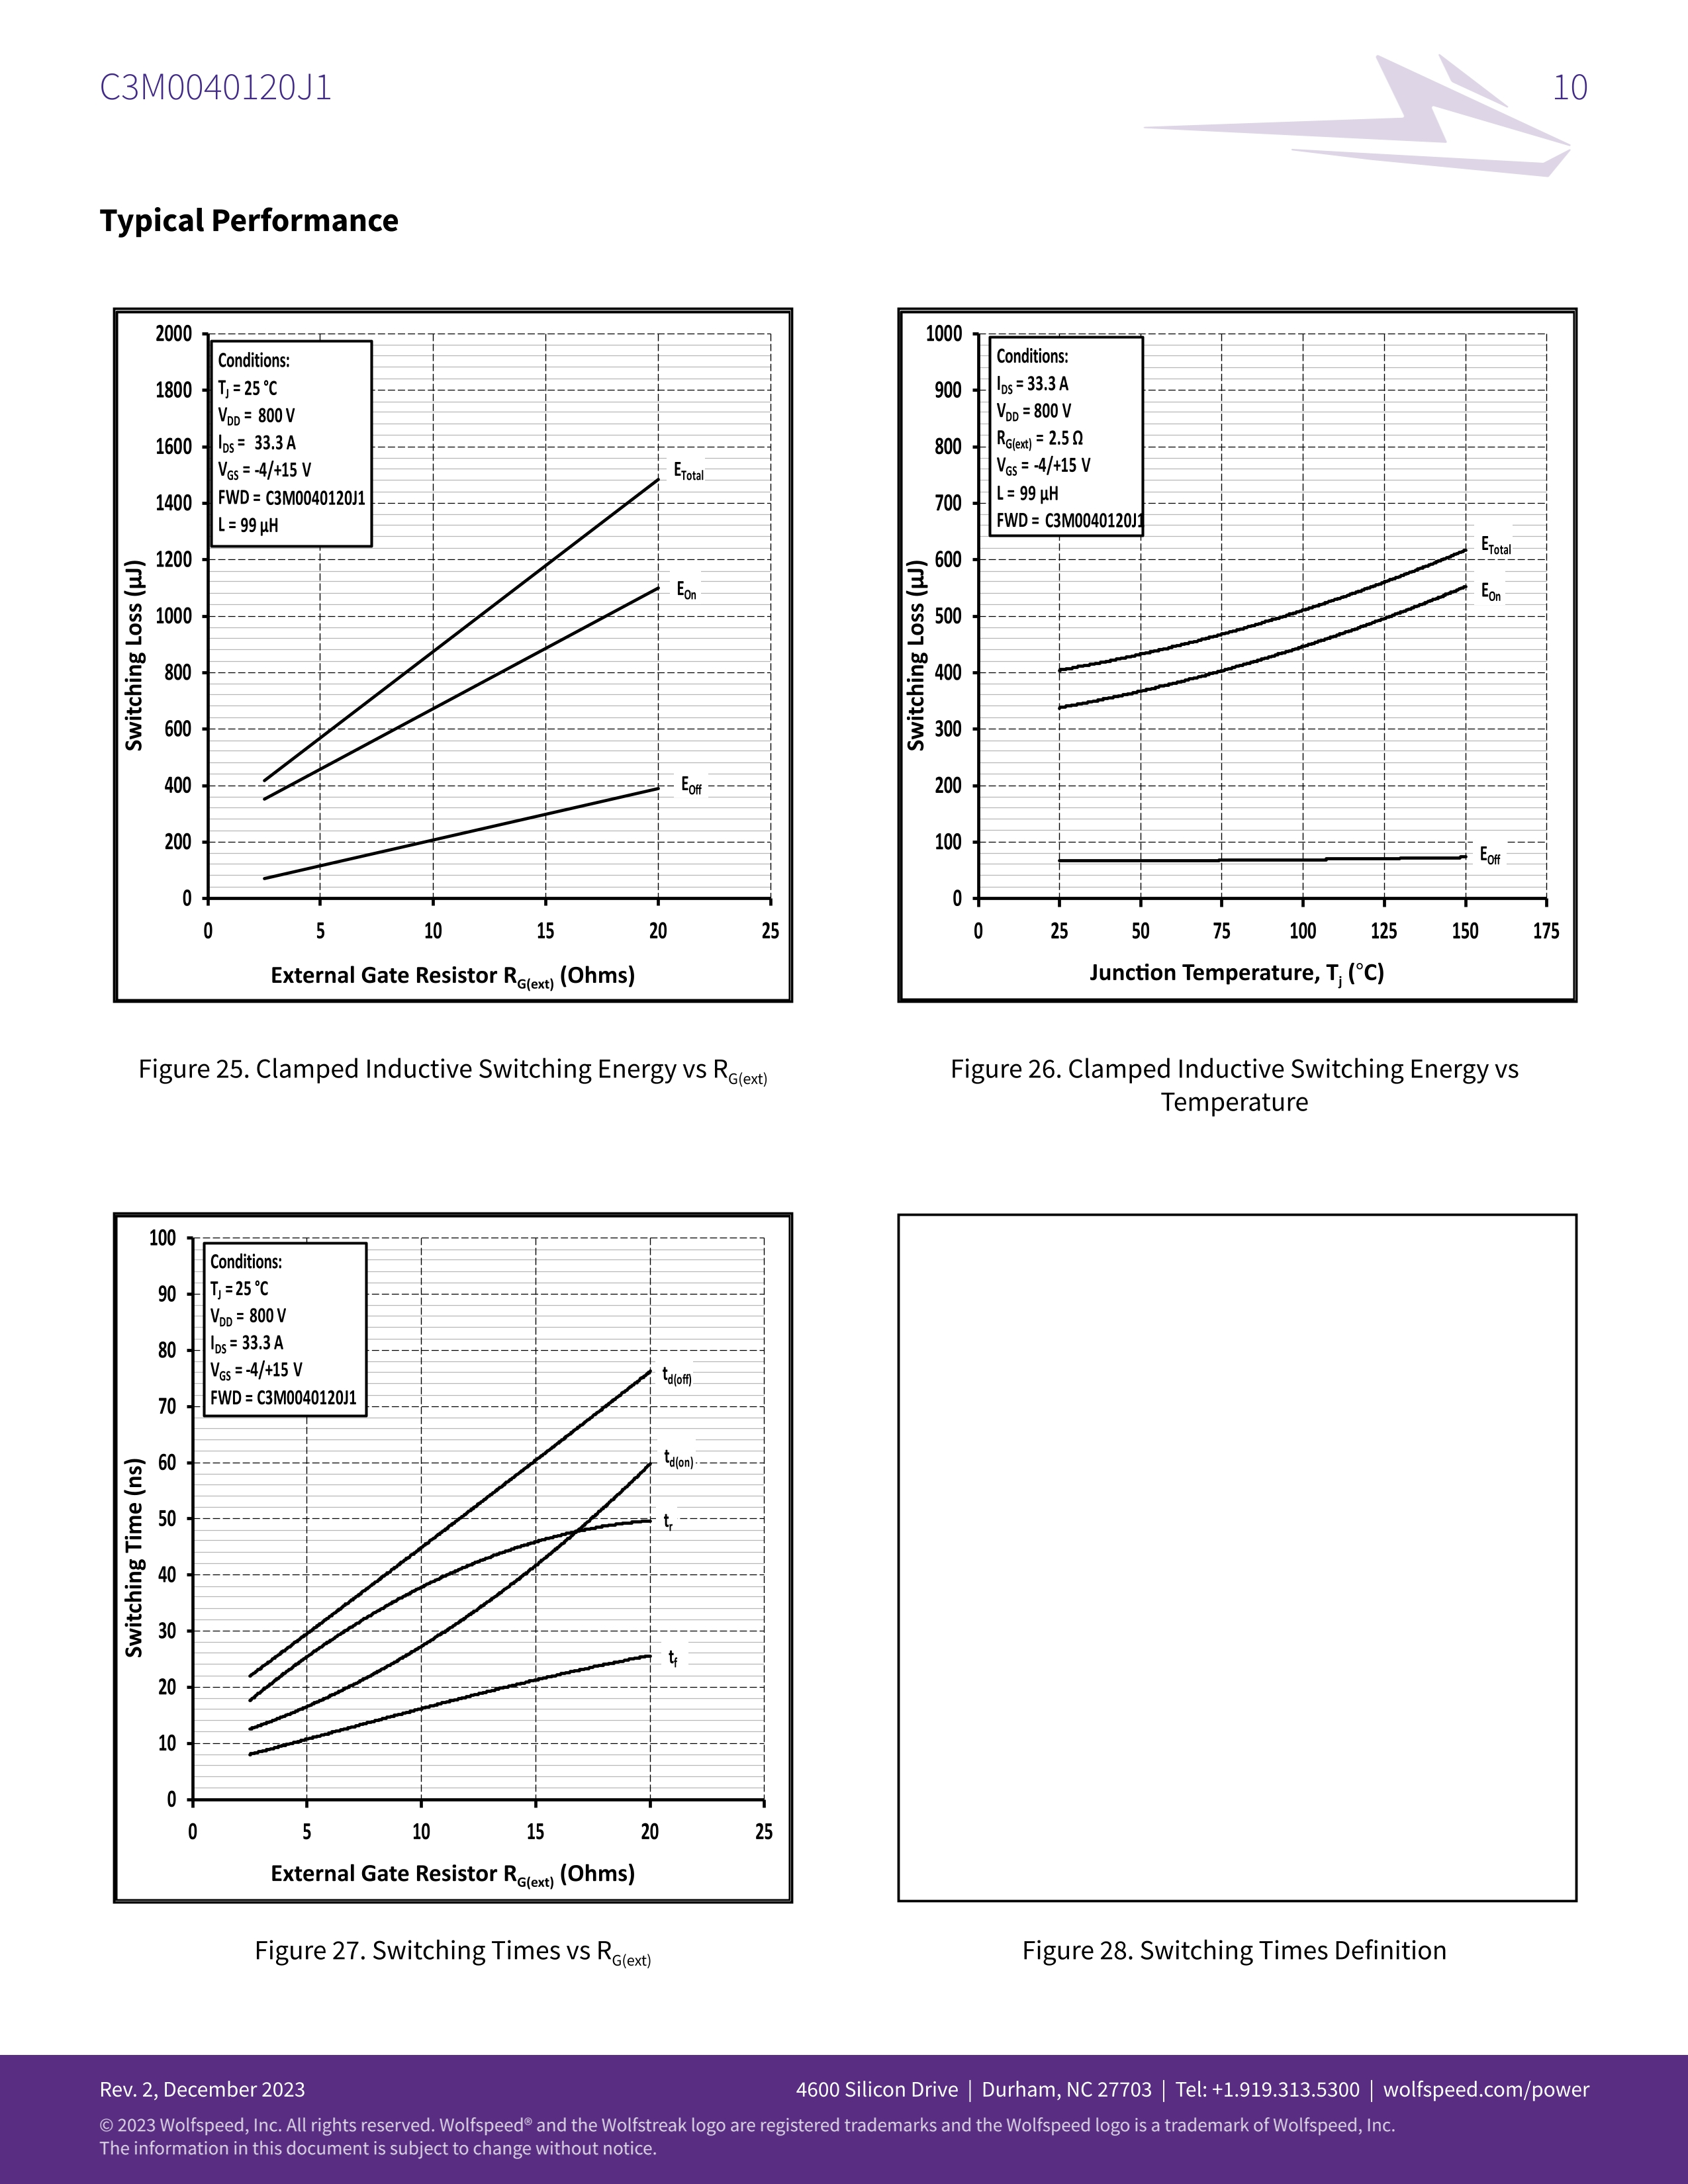diagram: (887, 291, 1612, 1165), (103, 1198, 833, 2028), (99, 289, 812, 1135)
